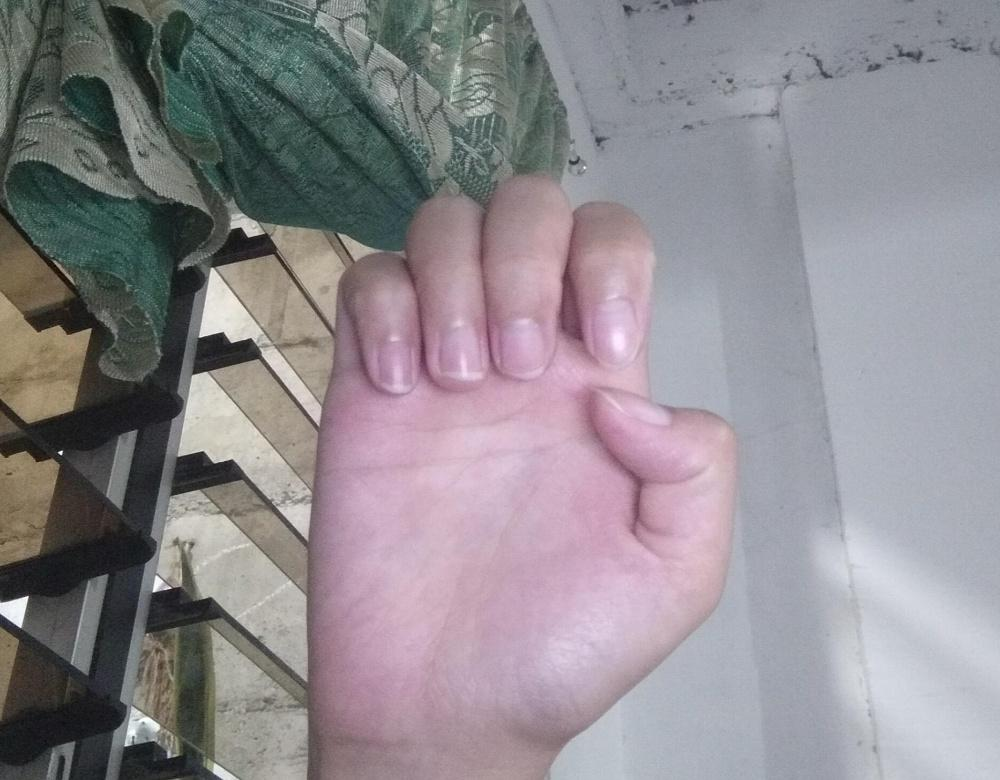e: (305, 169, 740, 773)
